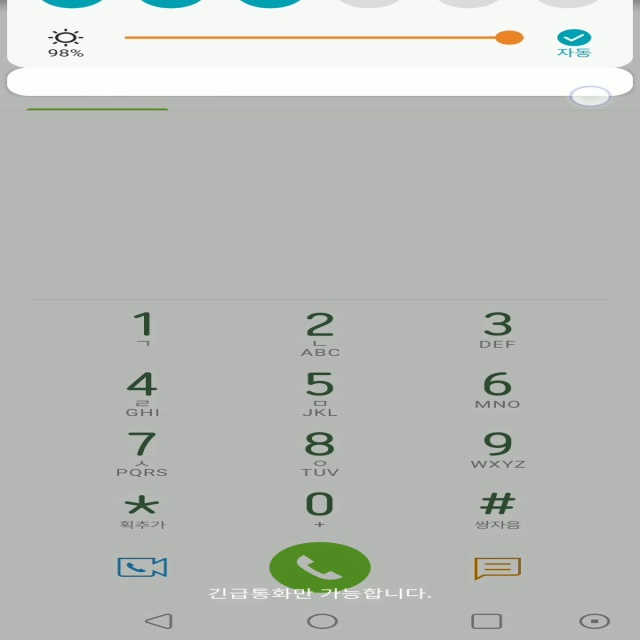Cursor: (569, 85, 614, 108)
